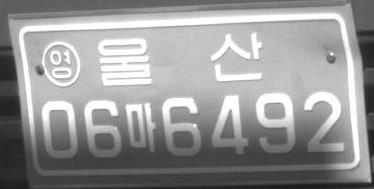0: (41, 99, 78, 159)
2: (303, 90, 345, 153)
4: (210, 94, 249, 155)
6: (161, 96, 202, 157), (83, 99, 122, 158)
9: (255, 91, 296, 154)
마: (124, 102, 156, 152)
영: (41, 40, 81, 87)
울산_D: (97, 31, 263, 87)
